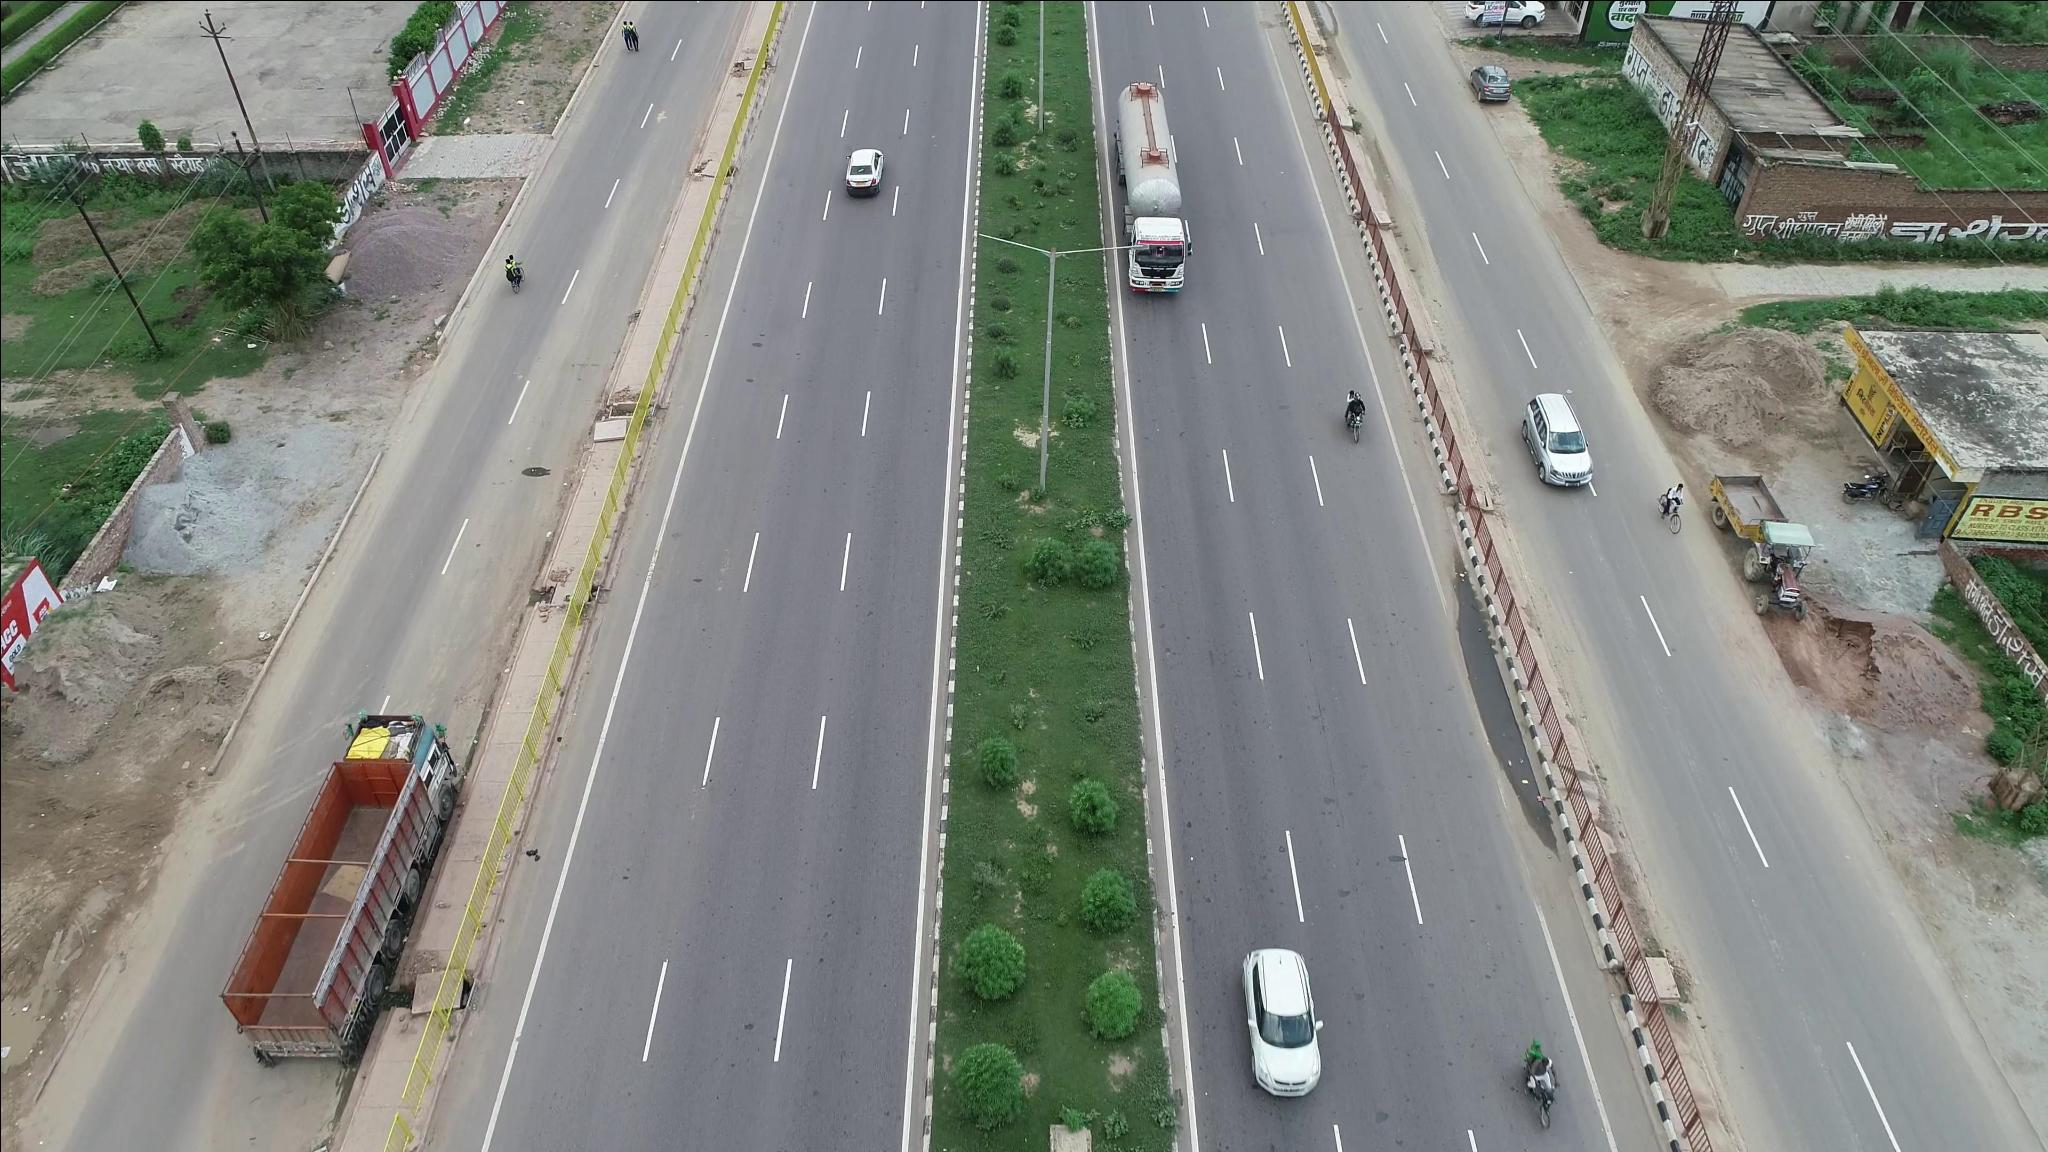Waterlogging: (1439, 567, 1537, 843)
